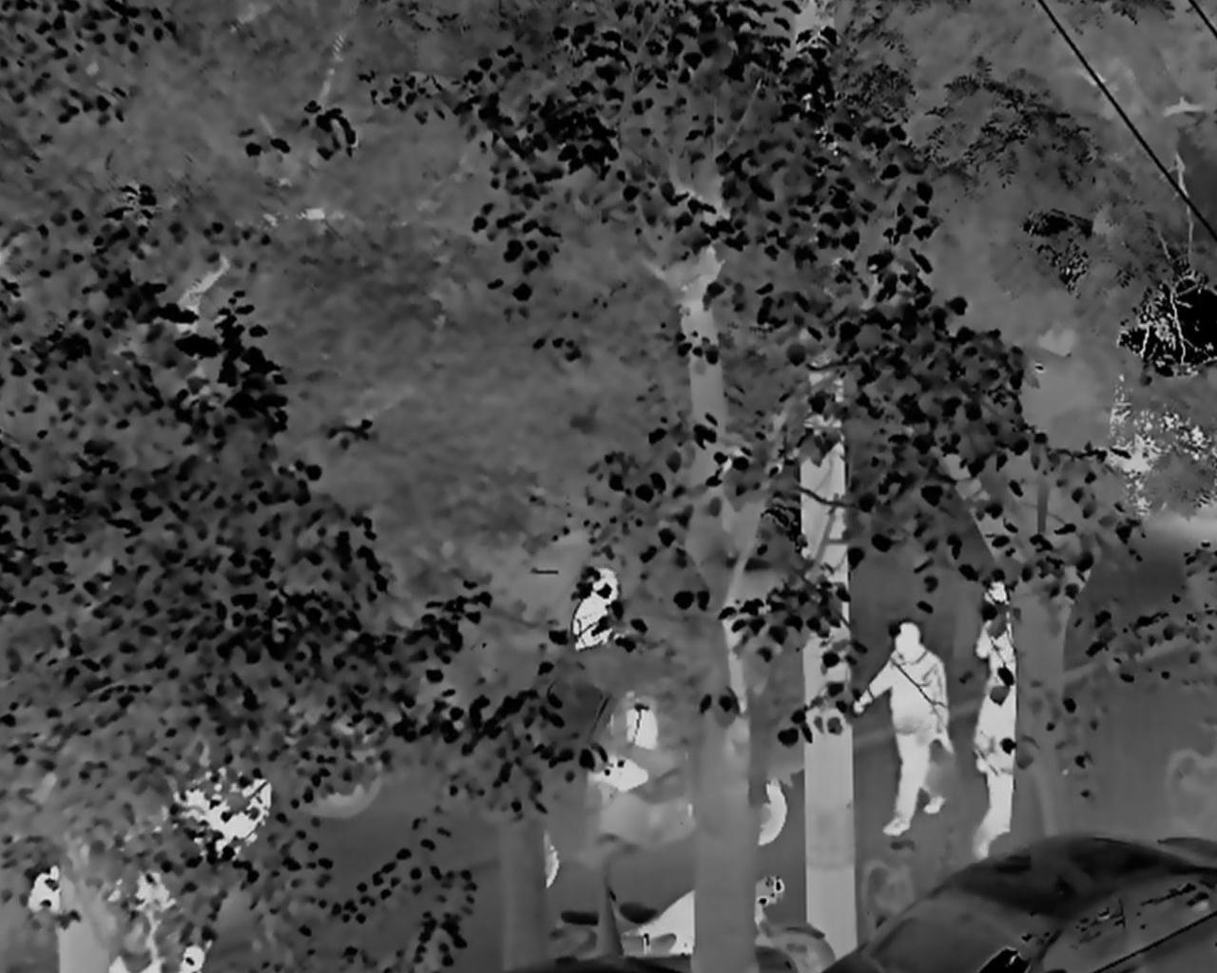person: (856, 620, 955, 835), (974, 675, 1013, 856), (974, 577, 1018, 698), (570, 565, 623, 646)
